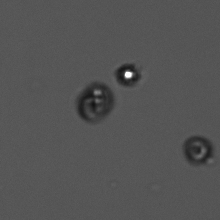Dead Cell: (74, 82, 113, 122), (182, 133, 214, 168)
Living Cell: (112, 60, 142, 85)
